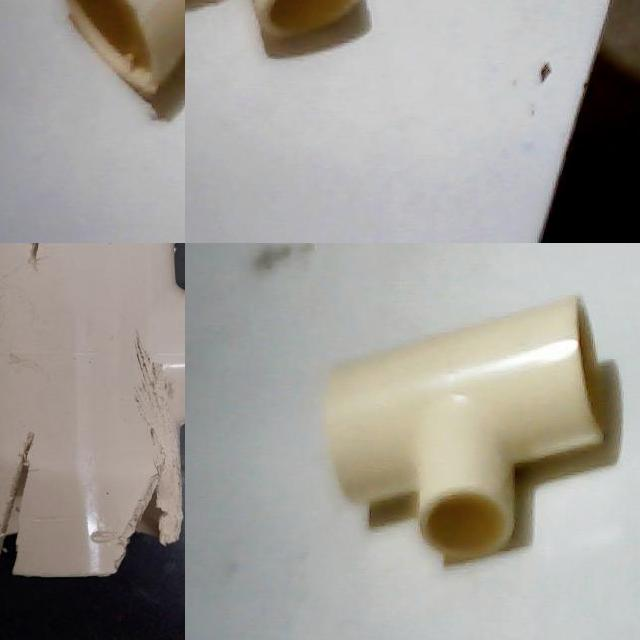Defective: (123, 460, 185, 606), (129, 315, 185, 435), (0, 429, 42, 587), (137, 0, 185, 69), (29, 243, 84, 292)
T Joint: (324, 296, 606, 566)
